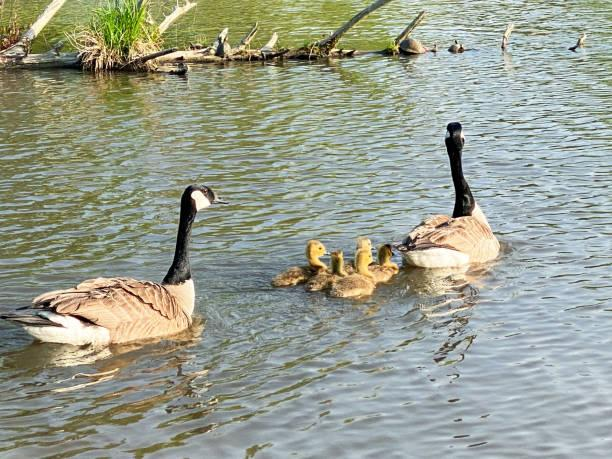Canadian-Goose: (12, 182, 220, 348), (406, 120, 503, 267), (276, 240, 321, 288), (333, 252, 375, 302), (313, 250, 346, 291), (370, 244, 403, 285)
